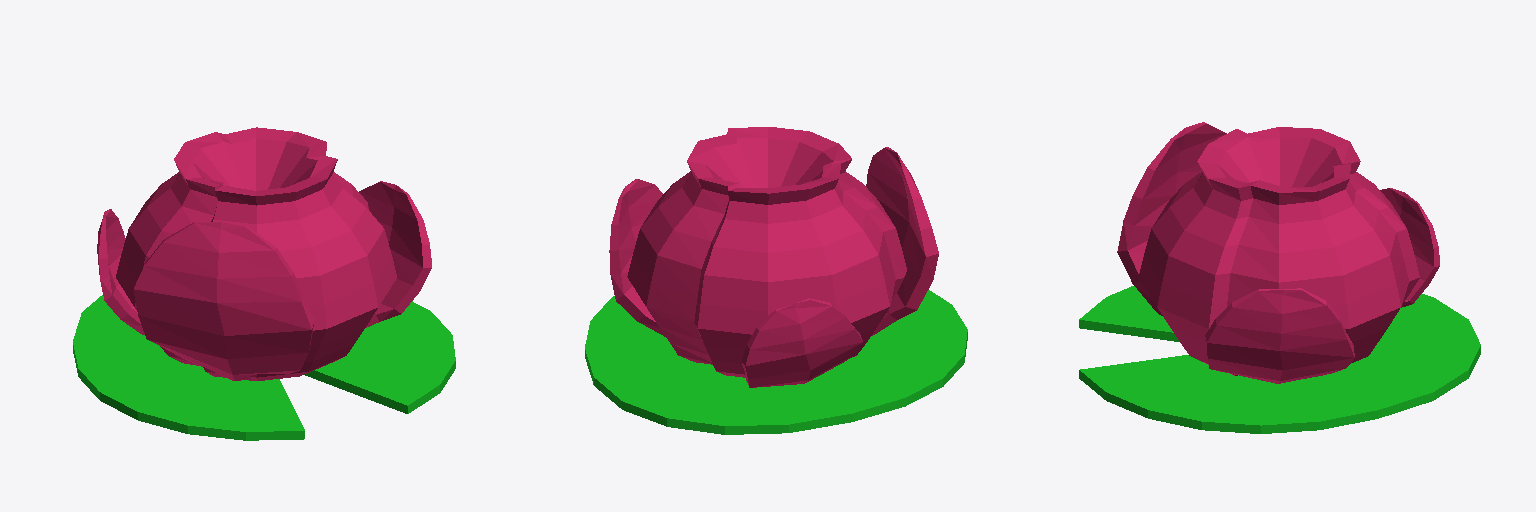
The model's file is florCerrada.obj.
3 views of the same model, side by side, from view 1: azimuth 30°, elevation 25°; view 2: azimuth 150°, elevation 25°; view 3: azimuth 270°, elevation 25° (orthographic).
Parts seen in each view (by area): view 1: Cylinder, Cylinder.001; view 2: Cylinder, Cylinder.001; view 3: Cylinder, Cylinder.001.
Part boxes in pixels (x1,y1,x2,y2): Cylinder: (73,127,455,440); Cylinder.001: (97,181,431,380); Cylinder: (585,127,967,434); Cylinder.001: (609,147,938,387); Cylinder: (1079,127,1480,433); Cylinder.001: (1117,122,1439,383).
Size of the model in its own units: 4 by 2.25 by 4.2.